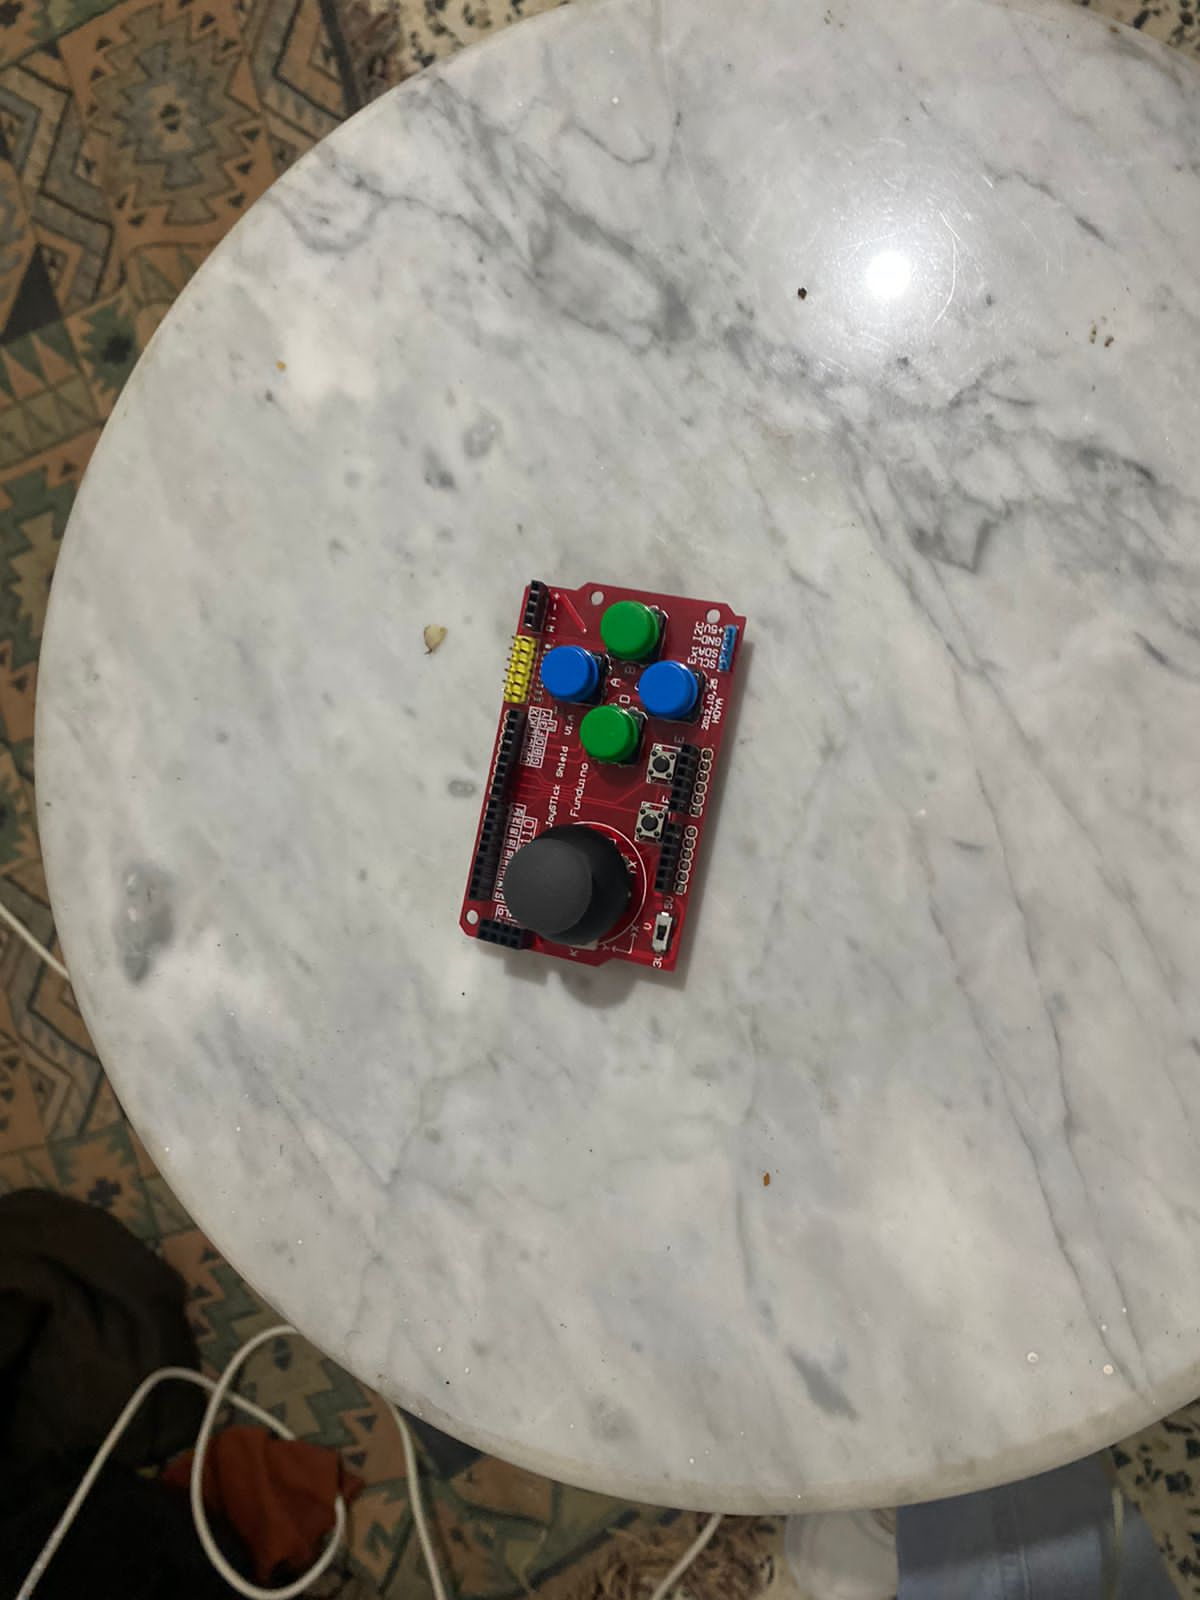Clavier-Joystick: (455, 572, 753, 989)
